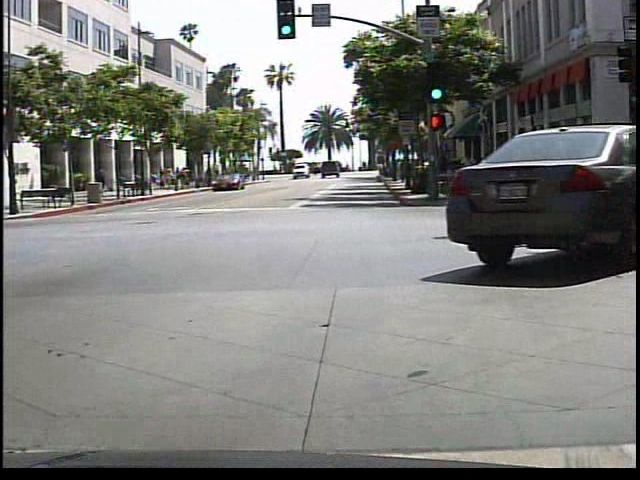person: (93, 161, 111, 195)
